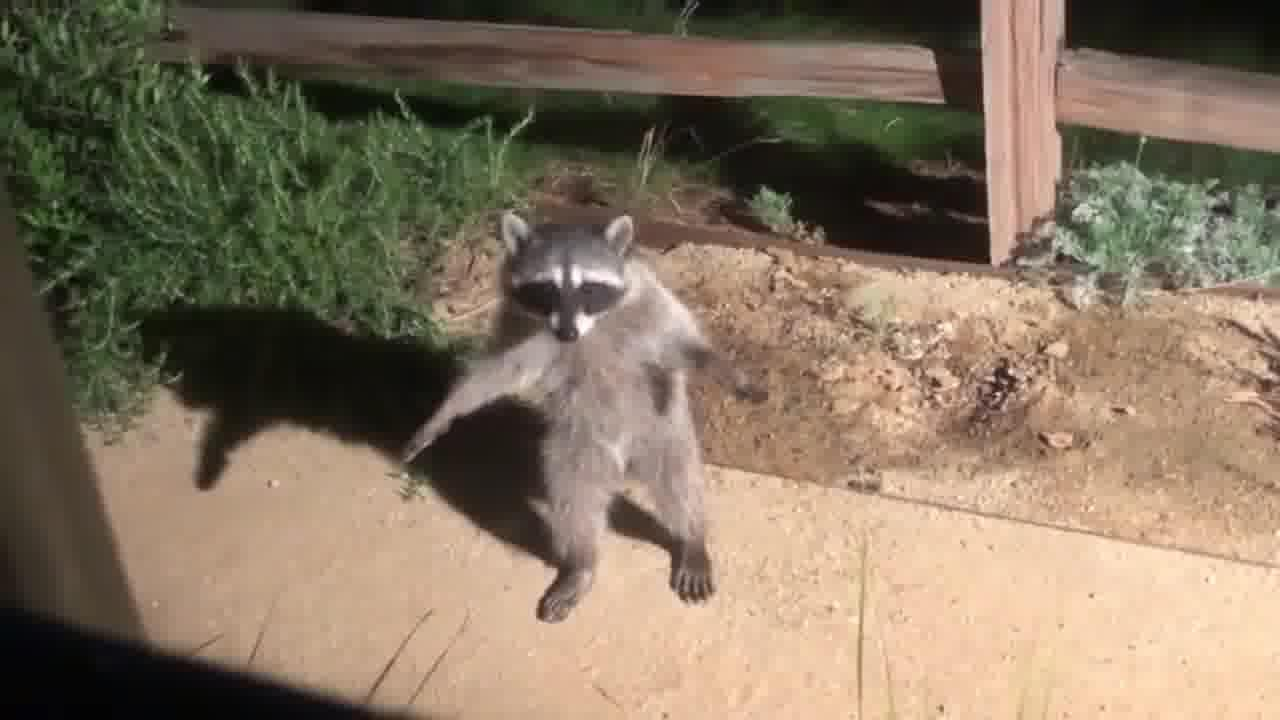raccoon: (391, 205, 770, 634)
